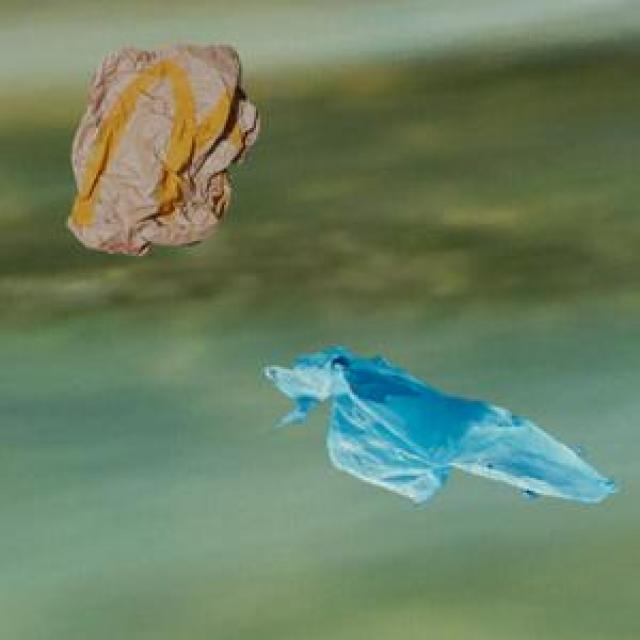paper: (64, 41, 254, 252)
